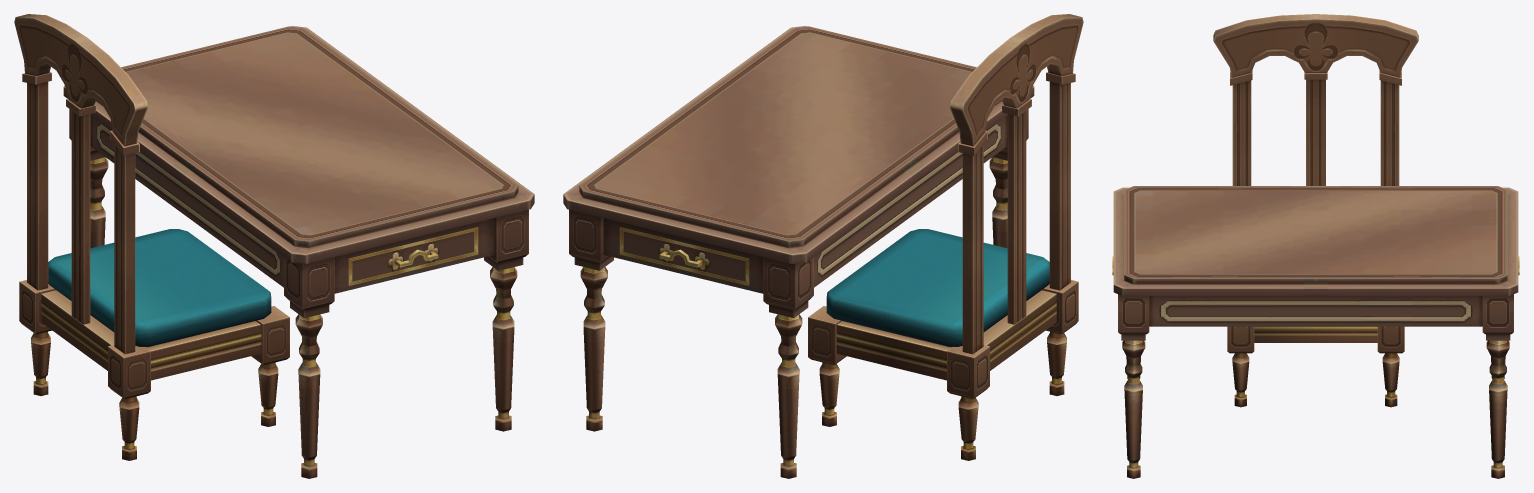
File: my_trinityclassroom_01_deskset_01.glb
The picture shows the model from 3 angles, left to right: view 1: azimuth 30°, elevation 25°; view 2: azimuth 150°, elevation 25°; view 3: azimuth 270°, elevation 25°; orthographic projection. The views are drawn at different scales.
Visible parts, largest first — view 1: my_trinityclassroom_01_deskset_01; view 2: my_trinityclassroom_01_deskset_01; view 3: my_trinityclassroom_01_deskset_01.
Part boxes in pixels (left/top/right/bottom): my_trinityclassroom_01_deskset_01: left=14, top=14, right=534, bottom=478; my_trinityclassroom_01_deskset_01: left=563, top=14, right=1083, bottom=478; my_trinityclassroom_01_deskset_01: left=1112, top=14, right=1519, bottom=478.
Bounding box in the file's own units: 0.00679 × 0.00718 × 0.00807.
2 materials, 2 textured.
